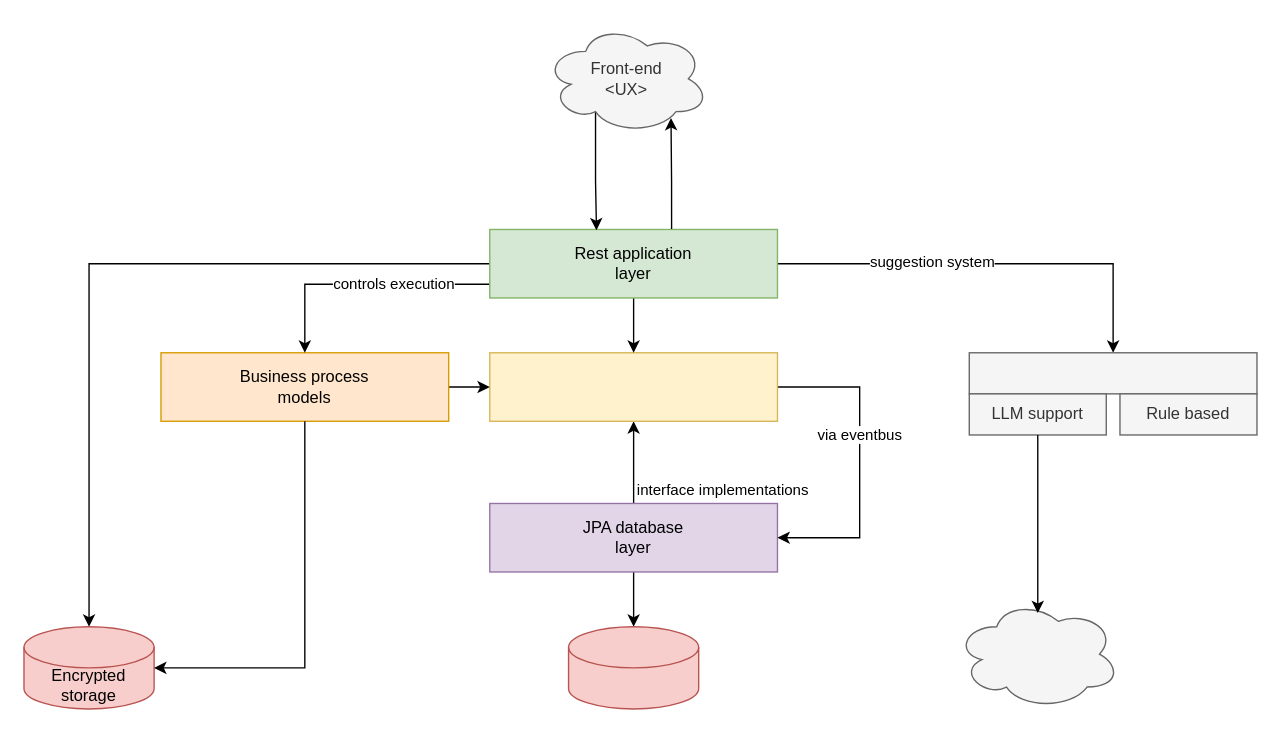
This 1281x733 diagram has some shape labels left out. The box of each missing label's shape, as (x1, y1, x2, y2) in pixels:
Application Domain: (488, 351, 777, 421)
Language Models: (968, 351, 1257, 394)
MariaDB / H2: (567, 625, 699, 709)
Ollama / Open AI: (954, 598, 1120, 709)
